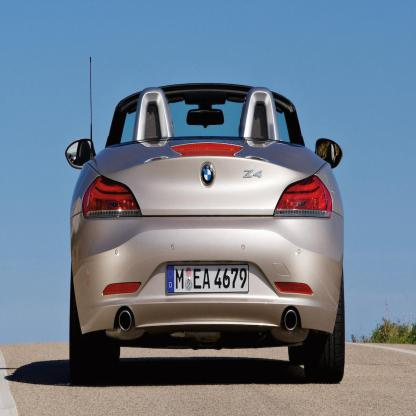Vehicle: (64, 56, 344, 386)
